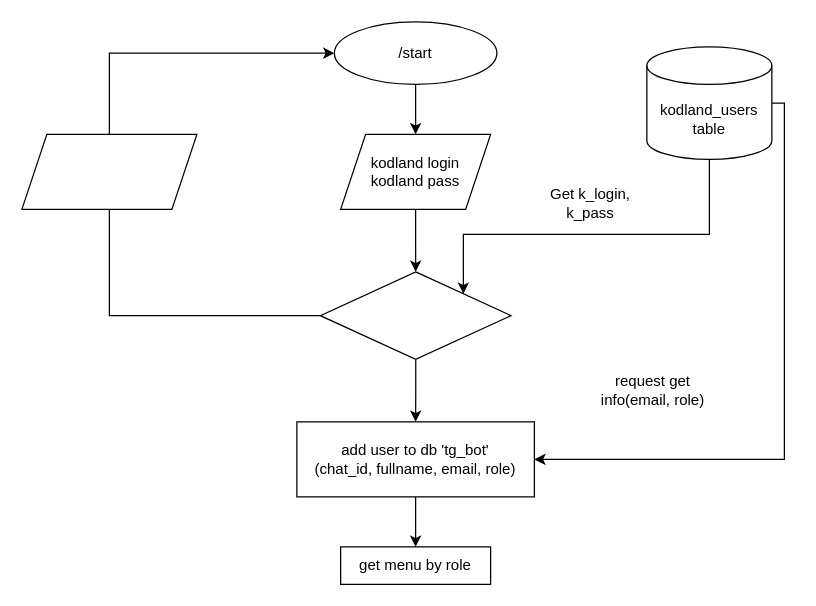
Some shapes in this 816 by 606 pixel diagram are drawn without their labels. The shapes that lost their labels are listed below. From the top down, each one's box as (x1, y1, x2, y2) in pixels, then its label:
(21, 133, 197, 209): Unsuccessful auth, try again!
(319, 271, 511, 359): login == k_login pass = k_login
